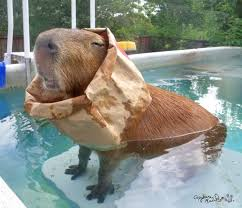capivara: (24, 28, 225, 202)
